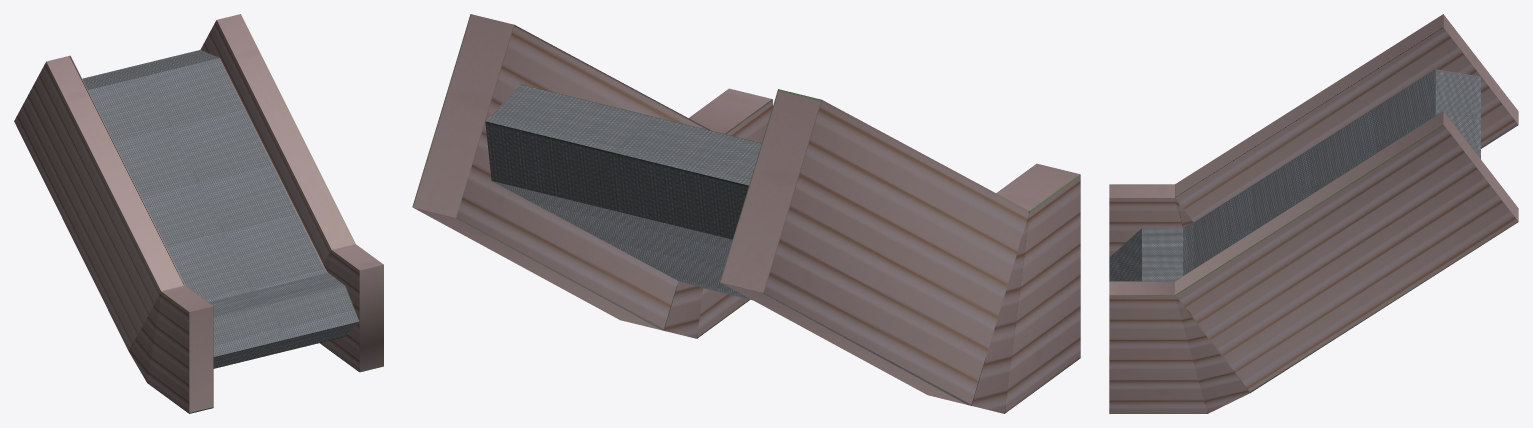
The model's file is Conveyor_Belt_Diagonal_Connector.FBX.
3 renders of one model, left to right at view 1: azimuth 30°, elevation 25°; view 2: azimuth 150°, elevation 25°; view 3: azimuth 270°, elevation 25°, orthographic. The views are drawn at different scales.
Parts seen in each view (by area): view 1: Box001; view 2: Box001; view 3: Box001.
Part boxes in pixels (x1=…): Box001: x1=14, y1=14, x2=383, y2=413; Box001: x1=412, y1=14, x2=1080, y2=413; Box001: x1=1109, y1=14, x2=1518, y2=413.
Bounding box in the file's own units: 80 × 97.36 × 125.
